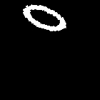chain: (23, 5, 65, 30)
